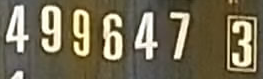four: (6, 6, 30, 55), (135, 13, 158, 60)
nine: (41, 5, 63, 54), (72, 9, 91, 58)
seven: (171, 12, 191, 62)
six: (103, 15, 125, 62)
three: (232, 21, 253, 69)
